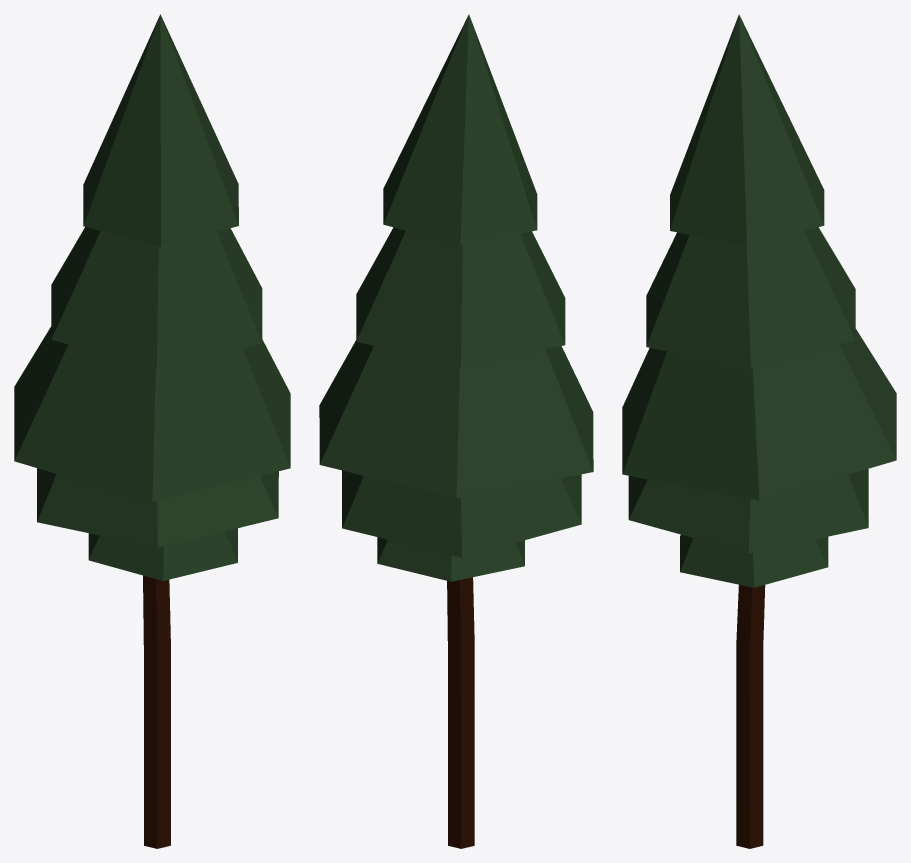
File: Tree6.fbx
The picture shows the model from 3 angles, left to right: view 1: azimuth 30°, elevation 25°; view 2: azimuth 150°, elevation 25°; view 3: azimuth 270°, elevation 25°; orthographic projection.
Parts seen in each view (by area): view 1: Kegel_5; view 2: Kegel_5; view 3: Kegel_5.
Part boxes in pixels (x1,y1,x2,y2): Kegel_5: [14, 14, 290, 848]; Kegel_5: [319, 14, 593, 848]; Kegel_5: [622, 14, 896, 848].
Size of the model in its own units: 1024 by 2945 by 885.
